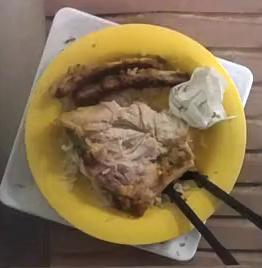chicken: (60, 100, 194, 211)
